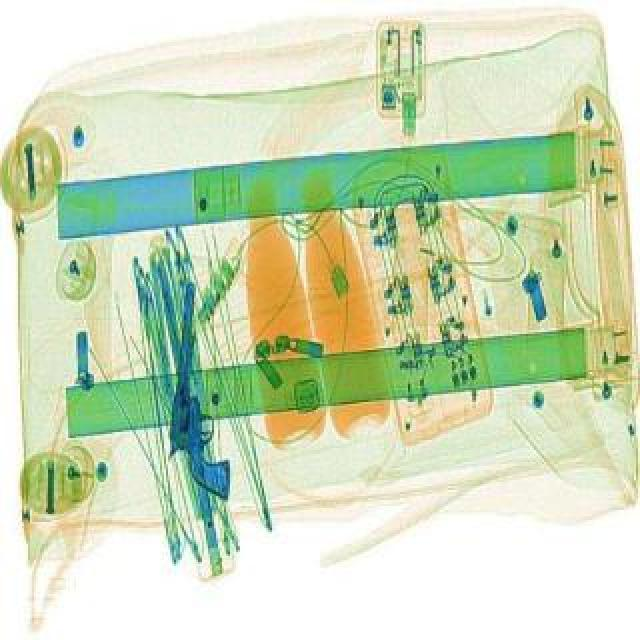gun: (156, 278, 260, 494)
